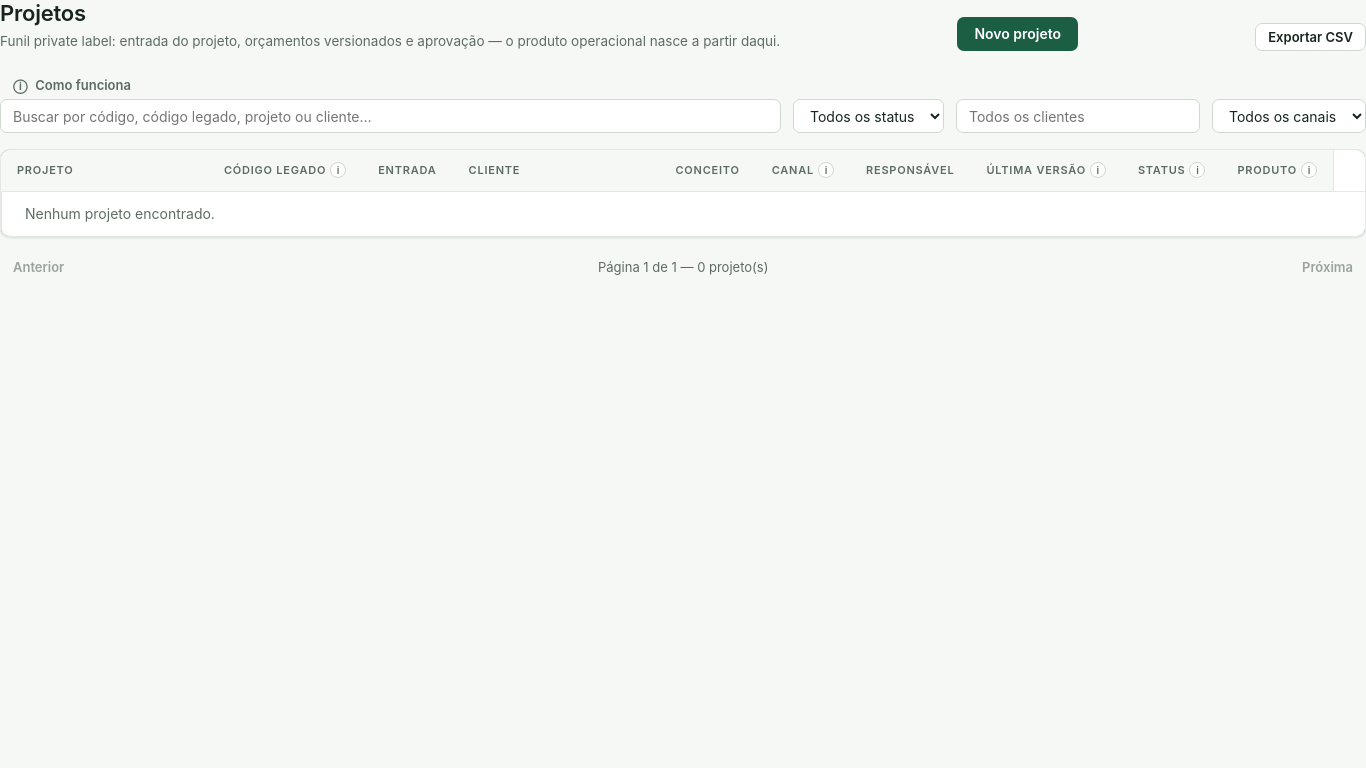
Test: Projetos (lista) › diz o que é um projeto e que aprovado é terminal — e começa fechado
The image size is (1366, 768).
Click the button "ⓘ Como funciona" at (72, 85), box [0,71,144,99]
(page scrolled)
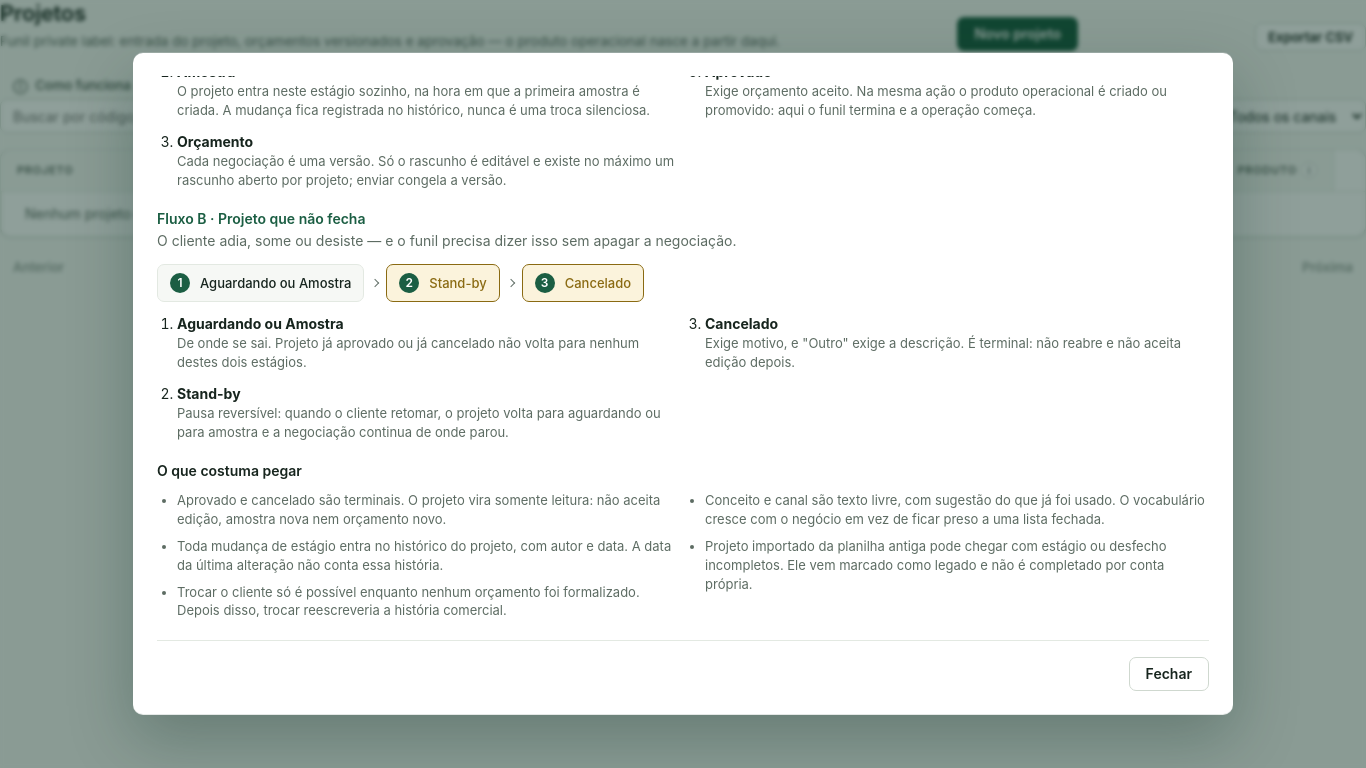
Expected: the button "ⓘ Como funciona" is expanded, [0,71,144,99]
Expected: the list item "não aceita edição, amostra nova nem orçamento novo" is shown, [177,492,660,527]
Click the button "Fechar" at (1169, 674), box [1129,657,1209,691]
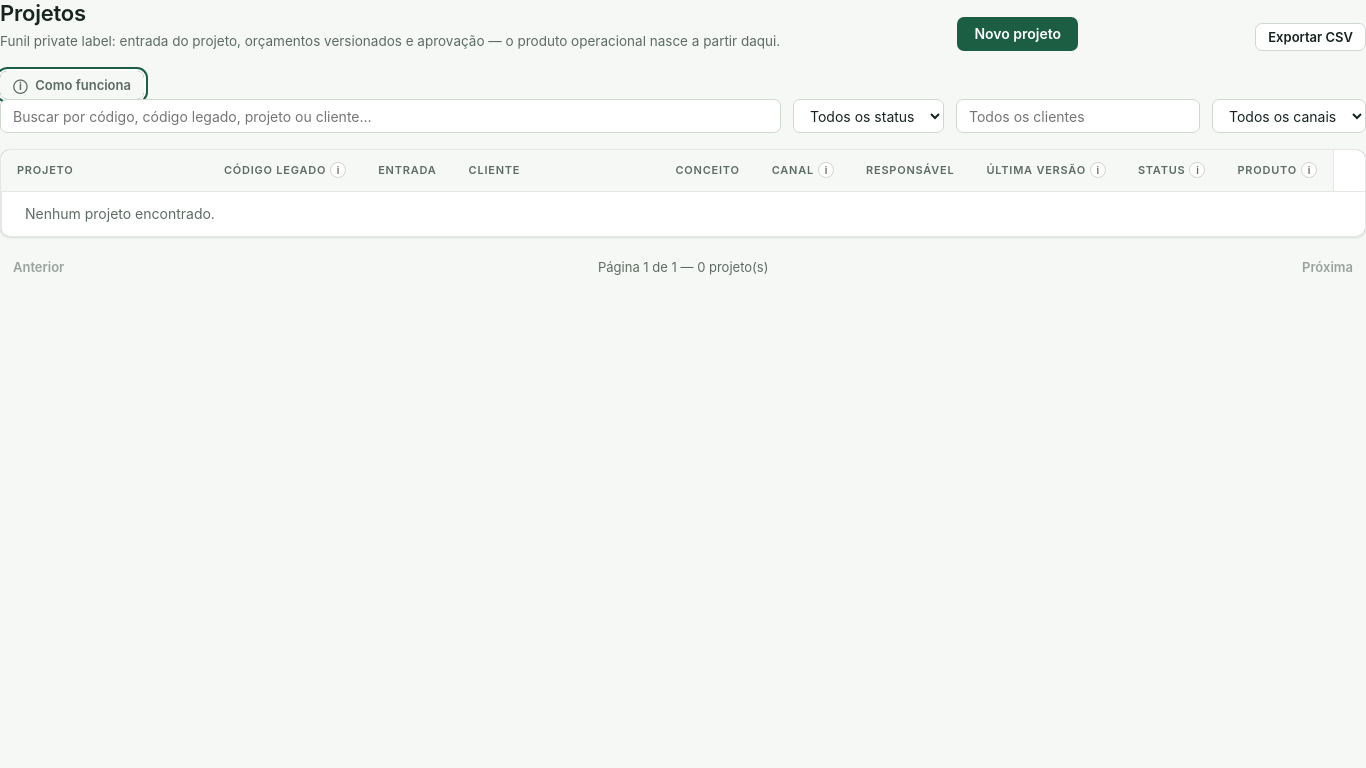
Expected: the button "ⓘ Como funciona" is collapsed, [0,71,144,99]
